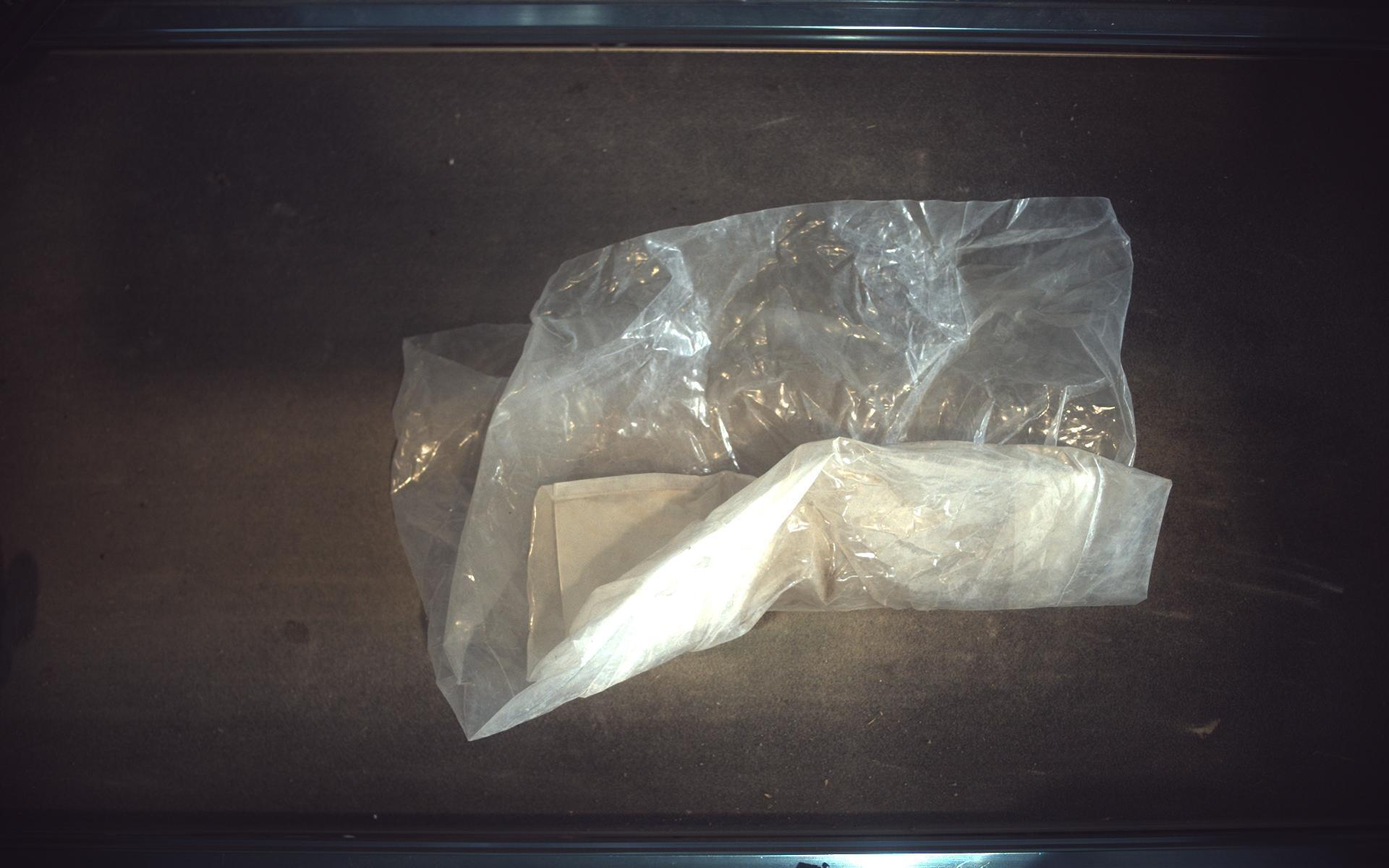general_w: (392, 197, 1173, 740)
